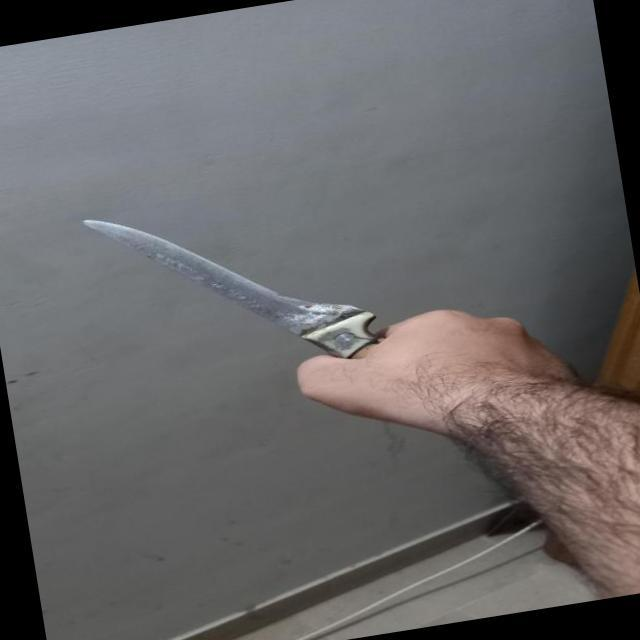Knife: (70, 168, 387, 400)
